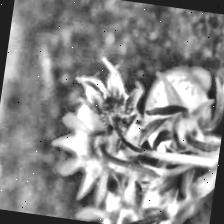Gray Mold: (66, 54, 150, 144)
